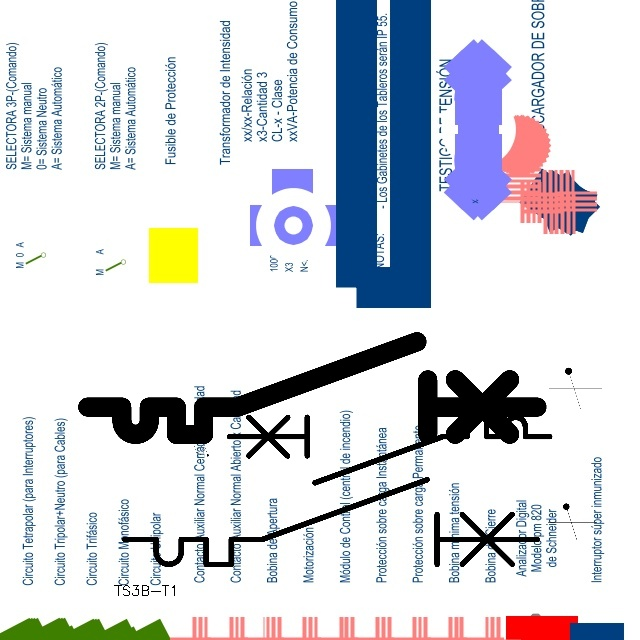interruptor_termomagnetico: (76, 330, 549, 446), (114, 469, 547, 575), (221, 409, 558, 491)
